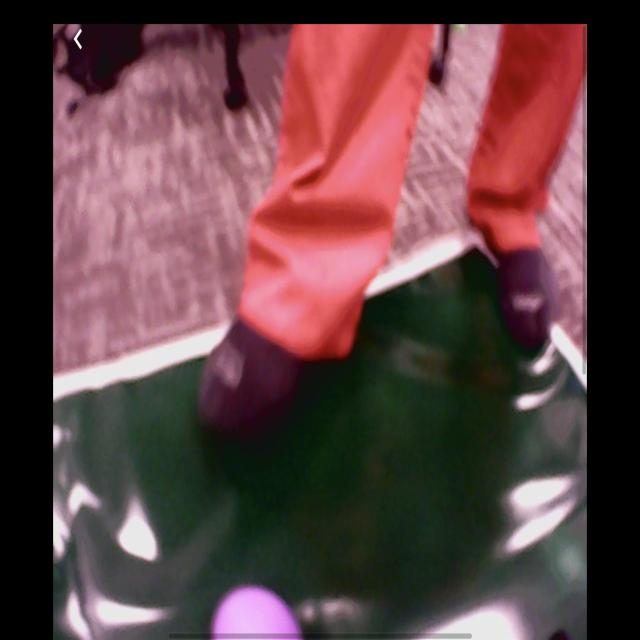ball: (211, 584, 305, 640)
